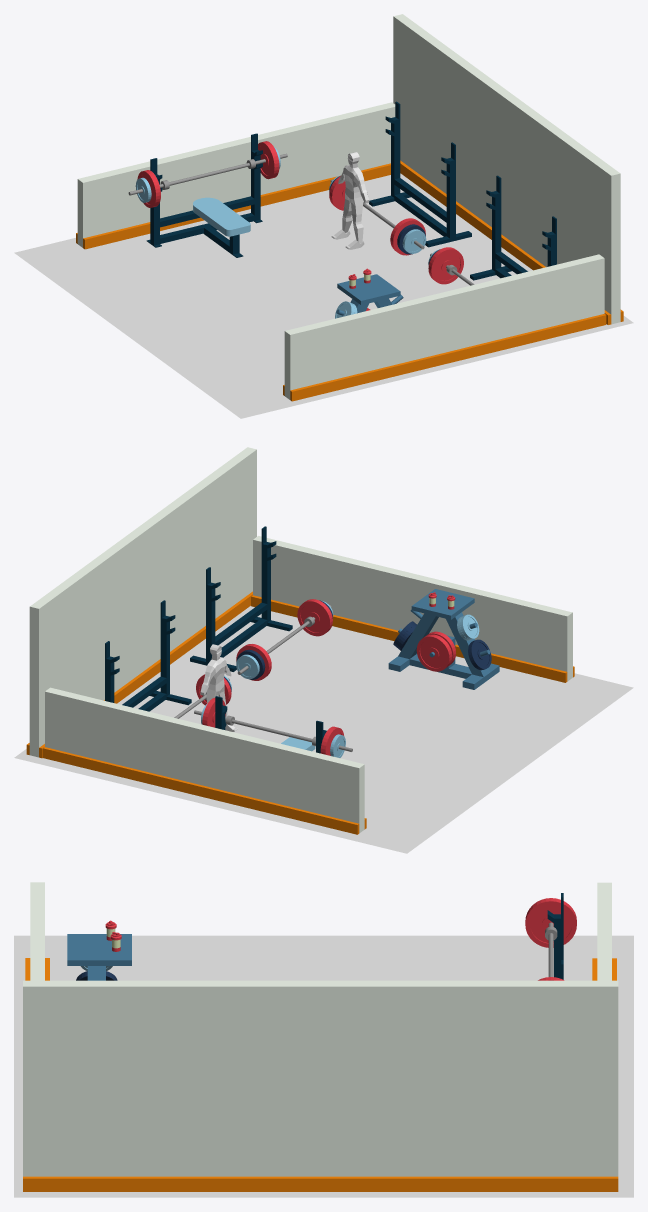
The model's file is area 1 deneme.fbx.
The picture shows the model from 3 angles, top to bottom: view 1: azimuth 30°, elevation 25°; view 2: azimuth 150°, elevation 25°; view 3: azimuth 270°, elevation 25°; orthographic projection. The views are drawn at different scales.
Visible parts, largest first — view 1: Plane, Main Full Wall Tile Lv1, Main Half Wall Tile Lv1.001, Main Half Wall Tile Lv1, Bench Press Ver1 Lv2, Bar Holder.001, Bar Holder, Male_1, Weight Holder, Bench Press 1 Weight 3.003, Bar, Weight 3; view 2: Plane, Main Full Wall Tile Lv1, Main Half Wall Tile Lv1, Main Half Wall Tile Lv1.001, Weight Holder, Bar Holder, Bar Holder.001, Male_1, Weight 3.003, Weight 3.004, Bench Press Ver1 Lv2; view 3: Main Full Wall Tile Lv1, Plane, Weight Holder, Main Half Wall Tile Lv1, Main Half Wall Tile Lv1.001, Bench Press 1 Weight 3.001, Bench Press Ver1 Lv2.
Part boxes in pixels (x1,y1,x2,y2): Plane: (14, 173, 633, 418); Main Full Wall Tile Lv1: (393, 14, 623, 324); Main Half Wall Tile Lv1.001: (283, 254, 606, 401); Main Half Wall Tile Lv1: (76, 102, 395, 249); Bench Press Ver1 Lv2: (146, 133, 262, 257); Bar Holder.001: (369, 101, 471, 247); Bar Holder: (470, 175, 556, 280); Male_1: (338, 152, 369, 244); Weight Holder: (336, 274, 403, 315); Bench Press 1 Weight 3.003: (428, 247, 463, 284); Bar: (128, 153, 287, 195); Weight 3: (258, 141, 279, 179); Plane: (14, 606, 633, 853); Main Full Wall Tile Lv1: (26, 447, 256, 758); Main Half Wall Tile Lv1: (43, 687, 366, 834); Main Half Wall Tile Lv1.001: (251, 536, 574, 682); Weight Holder: (388, 589, 499, 689); Bar Holder: (190, 526, 292, 671); Bar Holder.001: (105, 600, 191, 711); Male_1: (200, 644, 231, 717); Weight 3.003: (416, 634, 452, 671); Weight 3.004: (297, 599, 332, 636); Bench Press Ver1 Lv2: (215, 696, 326, 753); Main Full Wall Tile Lv1: (23, 980, 618, 1191); Plane: (14, 935, 633, 1197); Weight Holder: (67, 934, 131, 980); Main Half Wall Tile Lv1: (592, 882, 616, 980); Main Half Wall Tile Lv1.001: (25, 882, 49, 980); Bench Press 1 Weight 3.001: (525, 898, 576, 947); Bench Press Ver1 Lv2: (547, 893, 563, 979).
Bounding box in the file's own units: 1250 × 454 × 1250.
